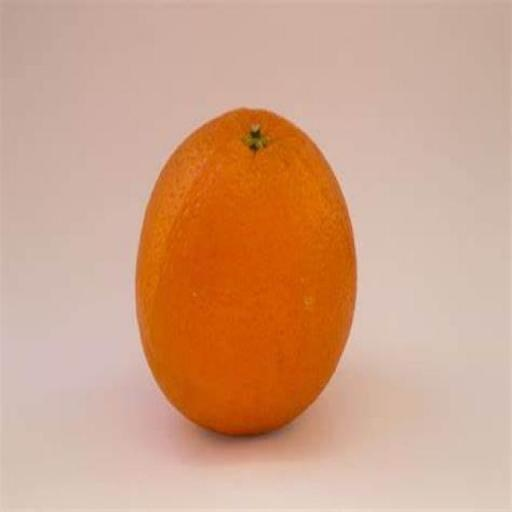fruit: (136, 109, 355, 434)
